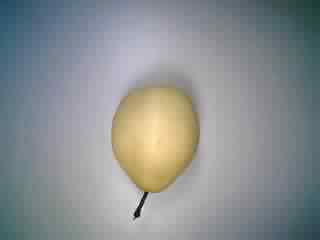pear: (95, 77, 208, 224)
